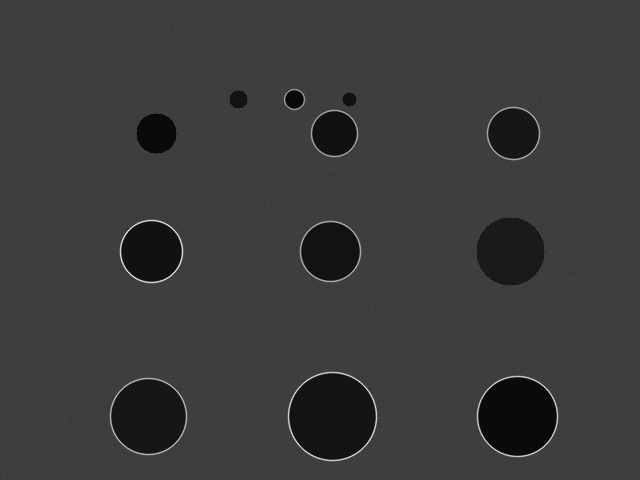hole: (288, 372, 376, 460), (477, 376, 557, 456), (110, 378, 186, 454), (476, 217, 544, 285), (120, 220, 182, 282), (300, 221, 360, 281), (487, 107, 539, 159), (311, 110, 357, 156), (136, 113, 176, 153), (284, 89, 304, 109), (229, 90, 247, 108), (342, 92, 356, 106)
